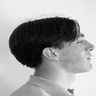ear: (36, 40, 67, 67)
